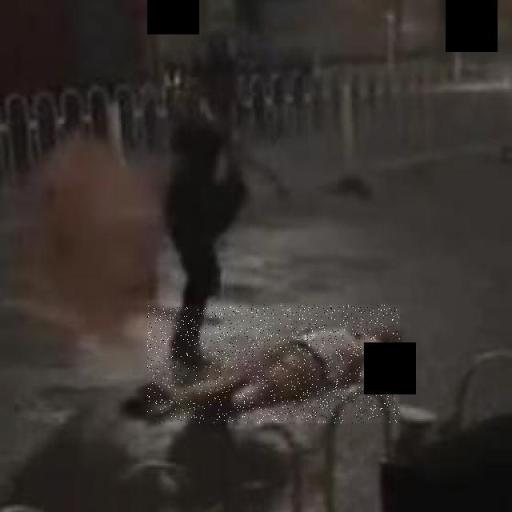Fall: (147, 305, 400, 423)
